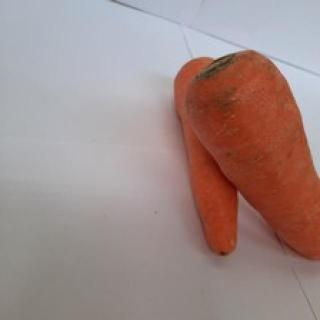carrot: (183, 50, 320, 262), (174, 57, 238, 255)
